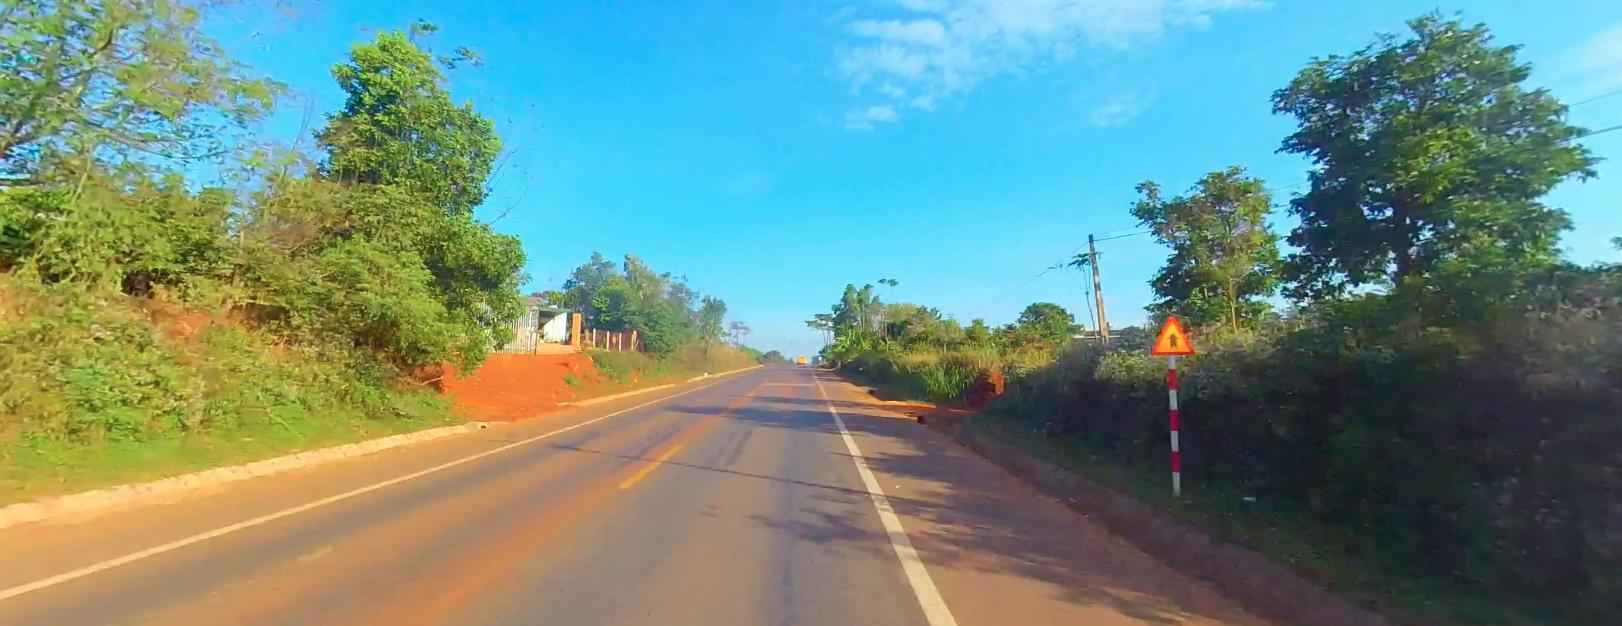Nguy hiem: (1150, 312, 1196, 356)
